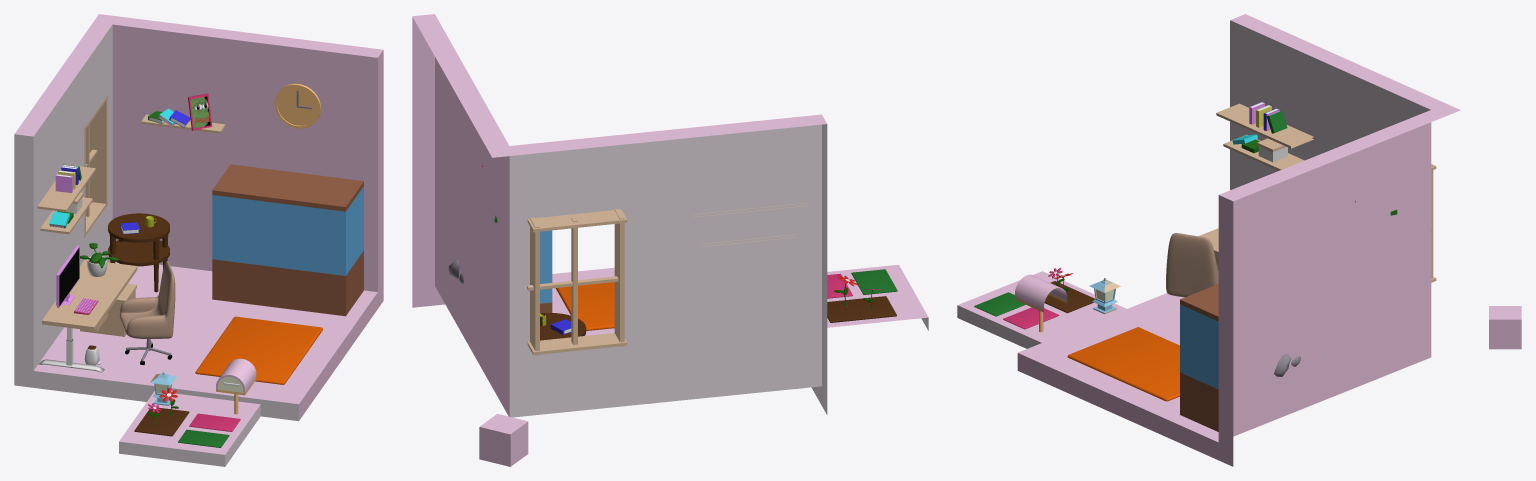
The model's file is Room.glb.
3 renders of one model, left to right at view 1: azimuth 30°, elevation 25°; view 2: azimuth 150°, elevation 25°; view 3: azimuth 270°, elevation 25°, orthographic. The views are drawn at different scales.
Visible parts, largest first — view 1: Body, Aquarium, Desks, Floor items, Mini floor, Shelves, Chair, Clock, Mailbox, Table Stuff, Floor third, Computer (+3 smaller); view 2: Body, Mini floor, Cube, Floor items, Floor third, Aquarium, Floor second, Desks; view 3: Body, Aquarium, Floor items, Mini floor, Shelves, Chair, Cube, Mailbox, Floor third, lamp, Floor second, Floor first.
Part boxes in pixels (bbox=[...]): Body: bbox=[14, 14, 383, 421]; Aquarium: bbox=[212, 164, 363, 316]; Desks: bbox=[38, 213, 169, 372]; Floor items: bbox=[84, 316, 322, 384]; Mini floor: bbox=[119, 391, 260, 466]; Shelves: bbox=[37, 93, 225, 234]; Chair: bbox=[119, 261, 175, 338]; Clock: bbox=[274, 83, 321, 128]; Mailbox: bbox=[216, 358, 256, 414]; Table Stuff: bbox=[74, 216, 156, 314]; Floor third: bbox=[134, 407, 189, 436]; Computer: bbox=[56, 245, 79, 307]; Body: bbox=[412, 14, 827, 417]; Mini floor: bbox=[827, 264, 928, 330]; Cube: bbox=[479, 414, 528, 466]; Floor items: bbox=[555, 282, 614, 330]; Floor third: bbox=[827, 296, 896, 322]; Aquarium: bbox=[448, 230, 552, 313]; Floor second: bbox=[851, 269, 897, 294]; Desks: bbox=[540, 313, 804, 403]; Body: bbox=[1017, 14, 1460, 466]; Aquarium: bbox=[1180, 284, 1300, 431]; Floor items: bbox=[1067, 327, 1179, 401]; Mini floor: bbox=[957, 271, 1126, 348]; Shelves: bbox=[1216, 102, 1397, 215]; Chair: bbox=[1166, 233, 1218, 297]; Cube: bbox=[1489, 306, 1521, 349]; Mailbox: bbox=[1015, 274, 1067, 332]; Floor third: bbox=[1044, 281, 1095, 313]; lamp: bbox=[1089, 278, 1120, 314]; Floor second: bbox=[974, 292, 1025, 316]; Floor first: bbox=[1003, 307, 1059, 329].
Size of the model in its own units: 27.14 by 17.93 by 34.52.
31 materials, 1 textured.
